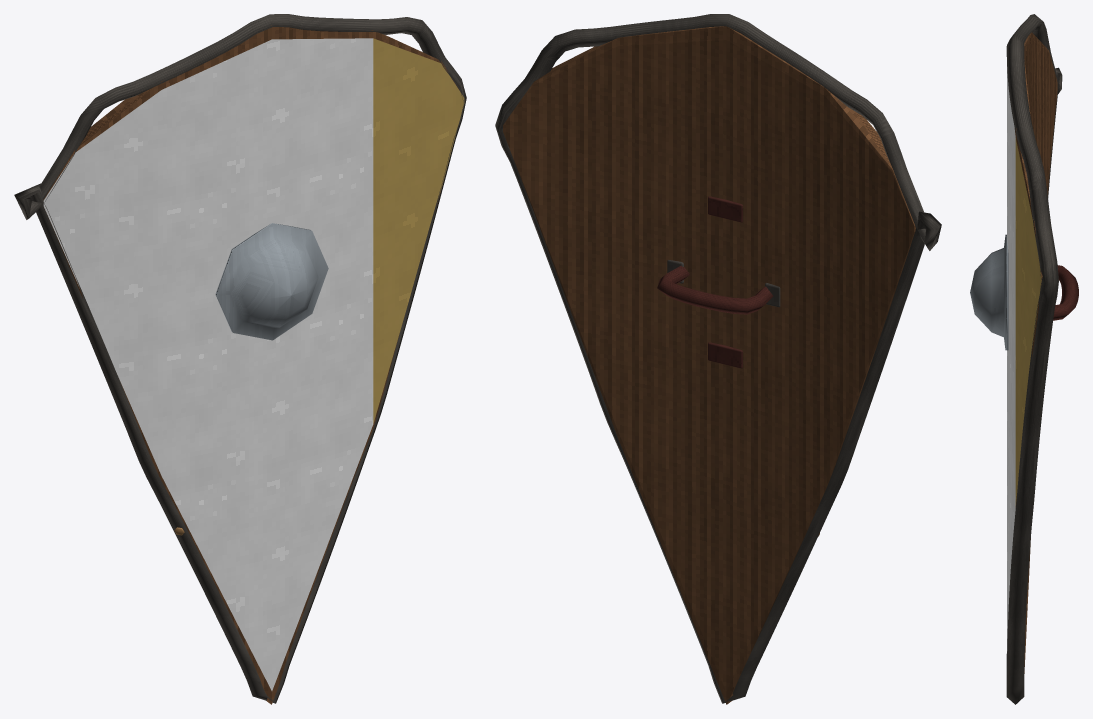
The model's file is kite-shield.lod2.glb.
3 views of the same model, side by side, from view 1: azimuth 30°, elevation 25°; view 2: azimuth 150°, elevation 25°; view 3: azimuth 270°, elevation 25° (orthographic). The views are drawn at different scales.
Visible parts, largest first — view 1: ceramic / ceramic composite panel, enamel / heraldic enamel, iron / hammer-scaled wrought iron, steel / forged blade steel, wood / oiled hardwood; view 2: wood / oiled hardwood, iron / hammer-scaled wrought iron, leather / oiled leather wrap; view 3: iron / hammer-scaled wrought iron, enamel / heraldic enamel, ceramic / ceramic composite panel, wood / oiled hardwood, steel / forged blade steel, leather / oiled leather wrap.
Boxes of the visible parts, x1=… form: ceramic / ceramic composite panel: x1=43, y1=38, x2=373, y2=690; enamel / heraldic enamel: x1=373, y1=38, x2=464, y2=423; iron / hammer-scaled wrought iron: x1=14, y1=14, x2=466, y2=703; steel / forged blade steel: x1=215, y1=223, x2=328, y2=340; wood / oiled hardwood: x1=43, y1=25, x2=460, y2=704; wood / oiled hardwood: x1=503, y1=26, x2=915, y2=704; iron / hammer-scaled wrought iron: x1=495, y1=14, x2=941, y2=703; leather / oiled leather wrap: x1=657, y1=196, x2=773, y2=368; iron / hammer-scaled wrought iron: x1=1006, y1=14, x2=1062, y2=704; enamel / heraldic enamel: x1=1015, y1=138, x2=1041, y2=505; ceramic / ceramic composite panel: x1=1007, y1=67, x2=1015, y2=650; wood / oiled hardwood: x1=1014, y1=32, x2=1057, y2=673; steel / forged blade steel: x1=970, y1=234, x2=1008, y2=350; leather / oiled leather wrap: x1=1053, y1=265, x2=1078, y2=320.
Bounding box in the file's own units: 0.642 × 0.9468 × 0.1415.
7 materials, 6 textured.
